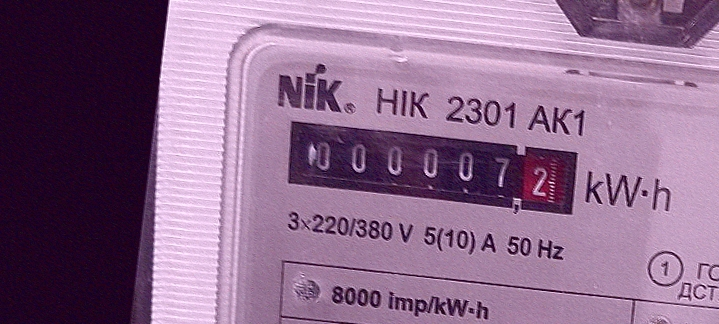0: (380, 139, 408, 180), (310, 136, 336, 173), (452, 146, 477, 184), (418, 144, 442, 183), (347, 138, 371, 175)
2: (527, 162, 552, 200)
7: (488, 151, 513, 191)
screen: (277, 109, 589, 225)
